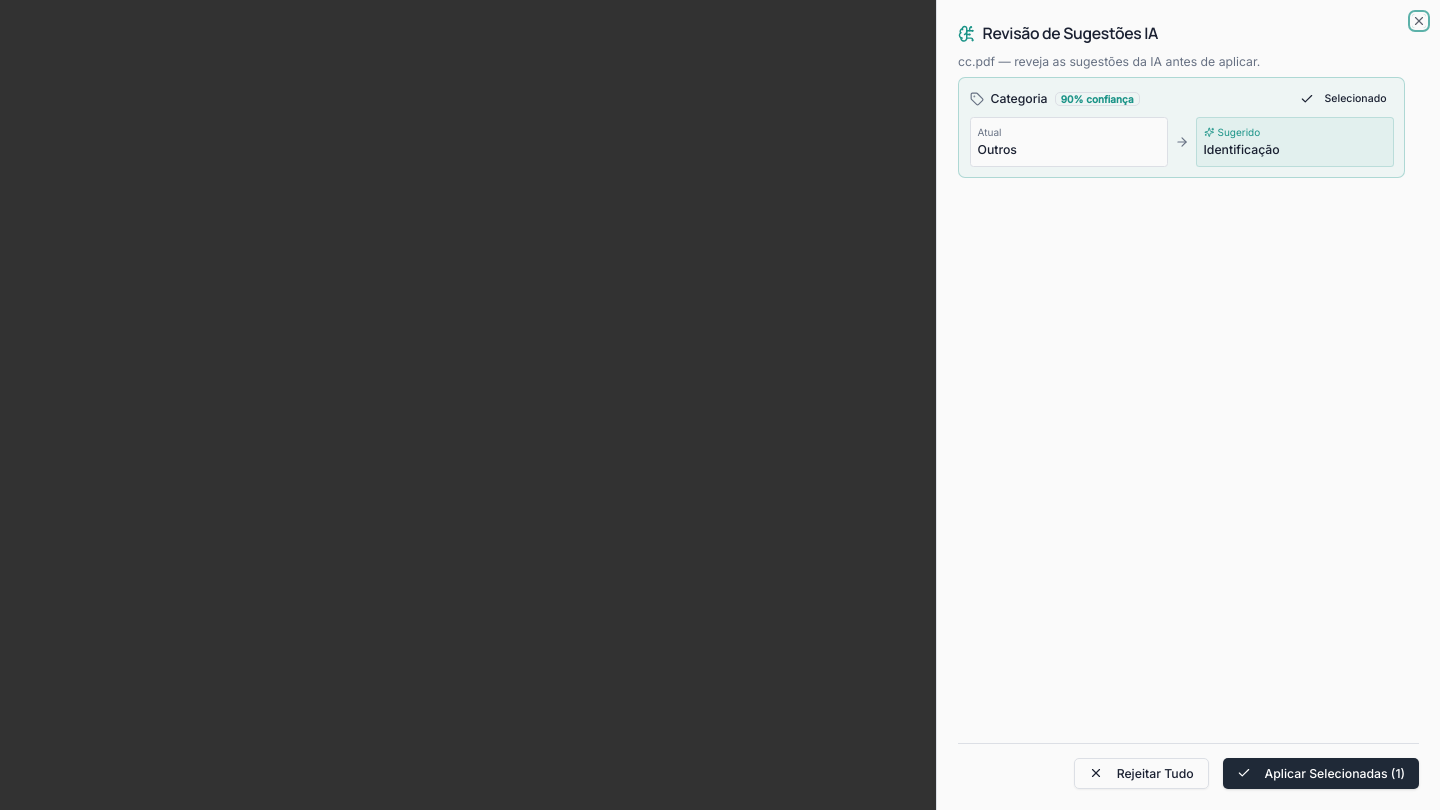
Scenario: DocumentReviewModal › ignorar o único campo desactiva o botão
This screenshot has width=1440, height=810.
Click the button "Selecionado" at (1343, 99), box [1293,88,1394,110]
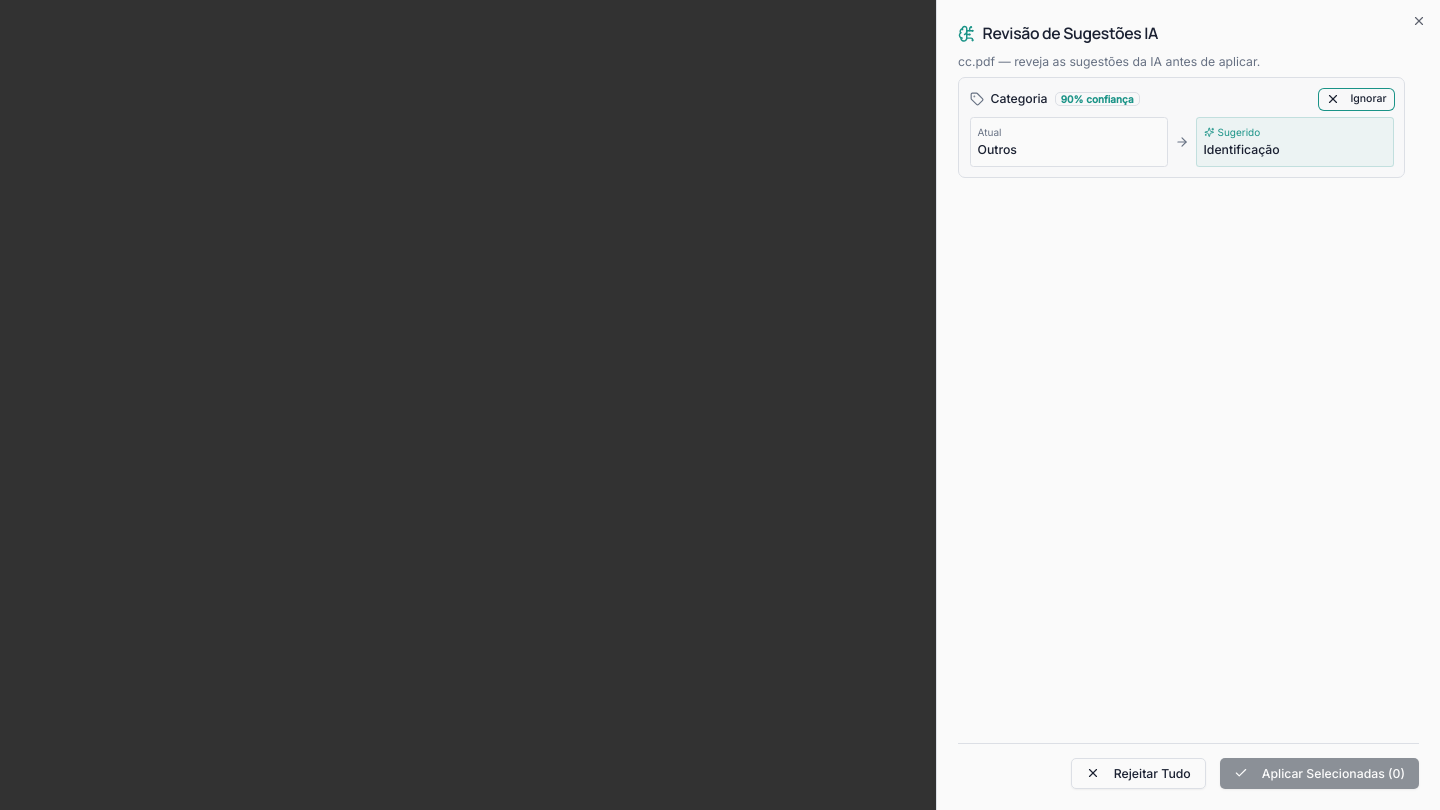
Check: the button "Aplicar Selecionadas (0)" is disabled, box [1220,758,1419,789]
